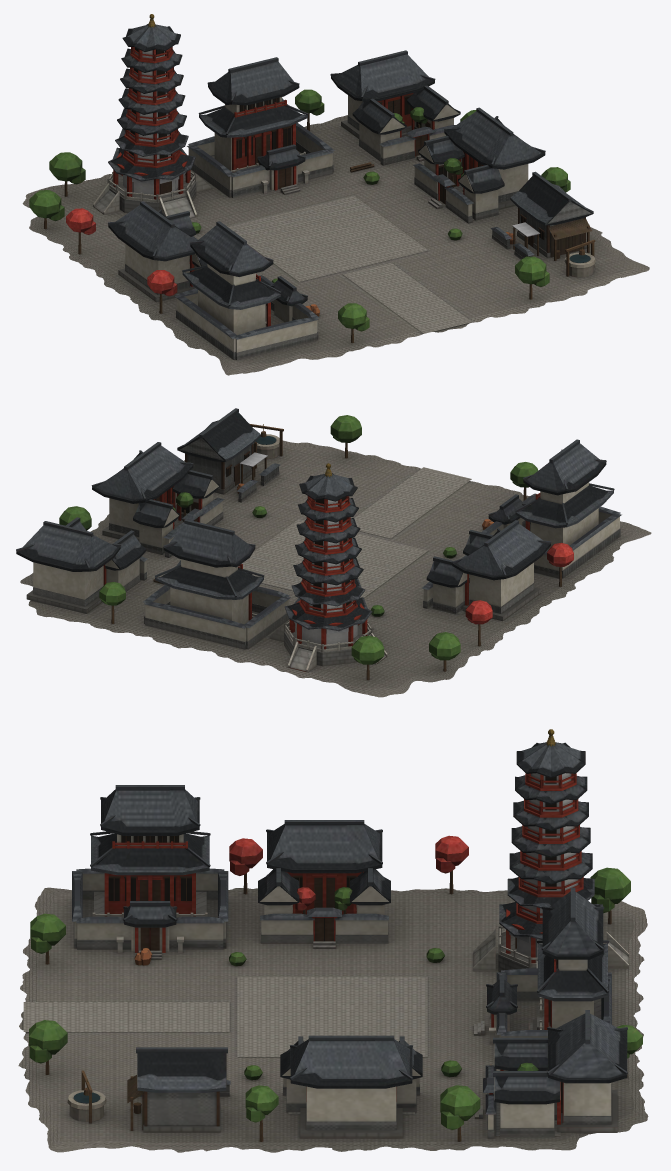
File: kingdoms-town-small-a-sinic.glb
The picture shows the model from 3 angles, top to bottom: view 1: azimuth 30°, elevation 25°; view 2: azimuth 150°, elevation 25°; view 3: azimuth 270°, elevation 25°; orthographic projection. The views are drawn at different scales.
Visible parts, largest first — view 1: LOD0; view 2: LOD0; view 3: LOD0.
Part boxes in pixels (box(x1,y1,x2,y2)): LOD0: box(22, 14, 649, 375); LOD0: box(16, 408, 651, 697); LOD0: box(18, 729, 648, 1152).
Size of what is drawn, in the model's own units: 4.02 by 1.65 by 4.06.
3 materials, 3 textured.
